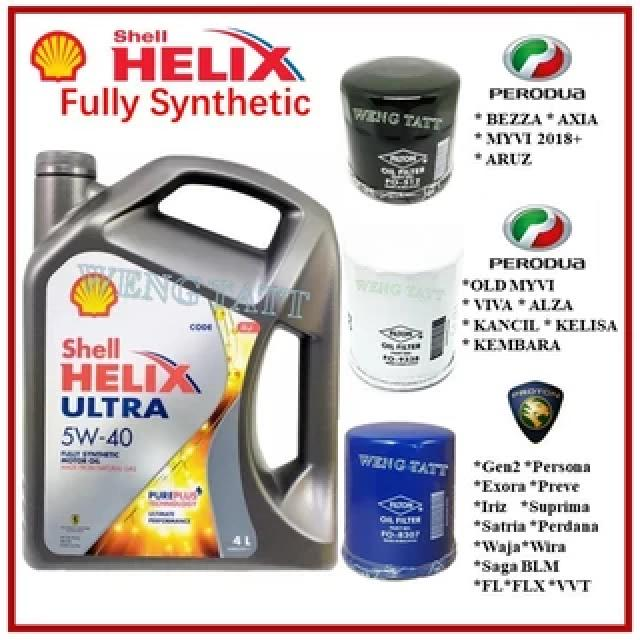motor_oil: (24, 141, 339, 572)
oil_filter: (344, 421, 465, 576), (339, 55, 466, 202), (348, 240, 462, 397)
